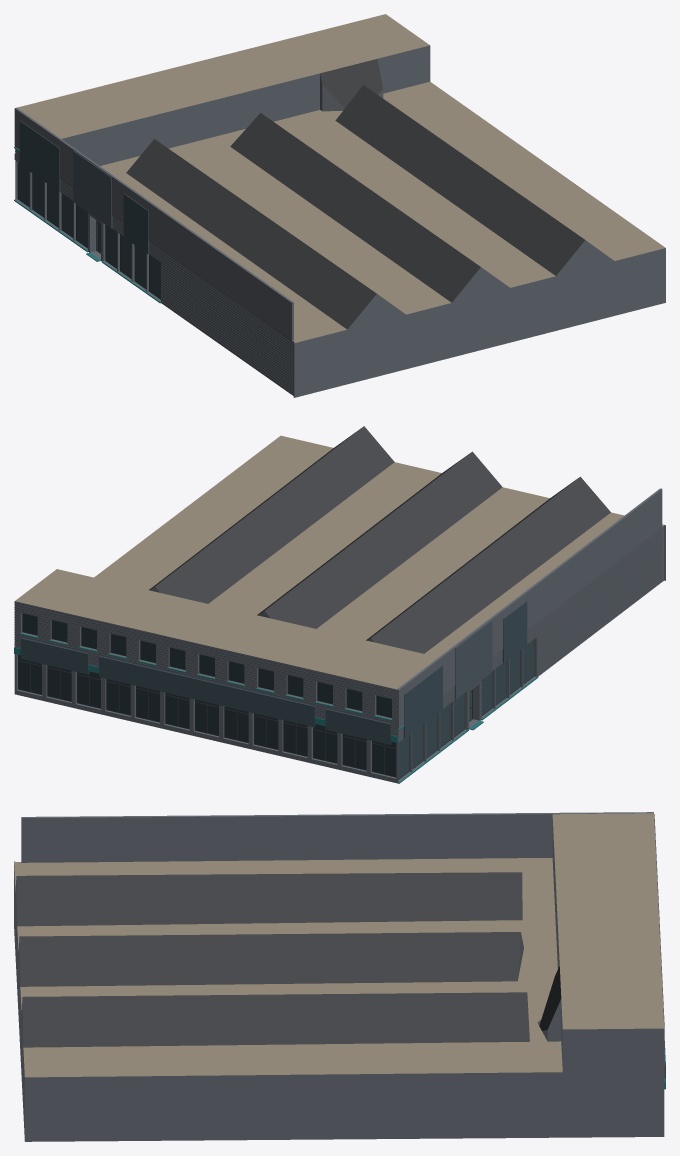
Rendered from recipe-large-haarlemmerweg-337-118325.glb.
3 renders of one model, top to bottom at view 1: azimuth 30°, elevation 25°; view 2: azimuth 150°, elevation 25°; view 3: azimuth 270°, elevation 25°, orthographic. The views are drawn at different scales.
Visible parts, largest first — view 1: haarlemmerweg-337-118325; view 2: haarlemmerweg-337-118325; view 3: haarlemmerweg-337-118325.
Boxes of the visible parts, x1=… form: haarlemmerweg-337-118325: x1=14, y1=14, x2=665, y2=397; haarlemmerweg-337-118325: x1=14, y1=426, x2=665, y2=783; haarlemmerweg-337-118325: x1=14, y1=812, x2=665, y2=1141.
Size of the model in its own units: 32.81 by 7.55 by 40.86.
